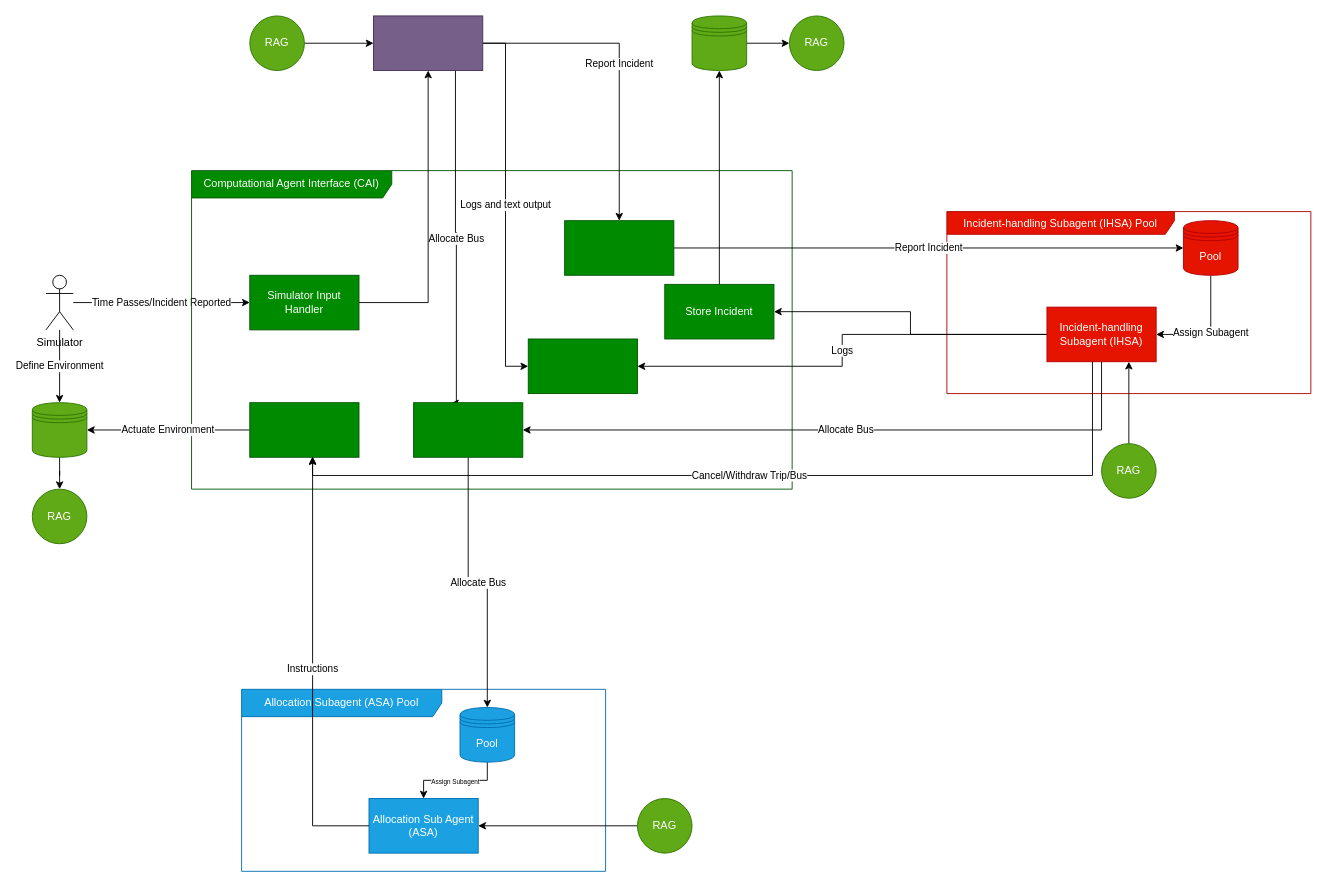
The diagram is 1327 pixels wide and 887 high, and some of its shapes have lost their labels. Each missing label, with the centre of its shape:
"Actuator" goes at (304,429).
"Allocation Handler" goes at (468,429).
"Central Reasoning Agent" goes at (428,43).
"Environment" goes at (59,429).
"Incident Reporting Handler" goes at (619,247).
"Incident Store" goes at (719,43).
"Logging System" goes at (582,366).
